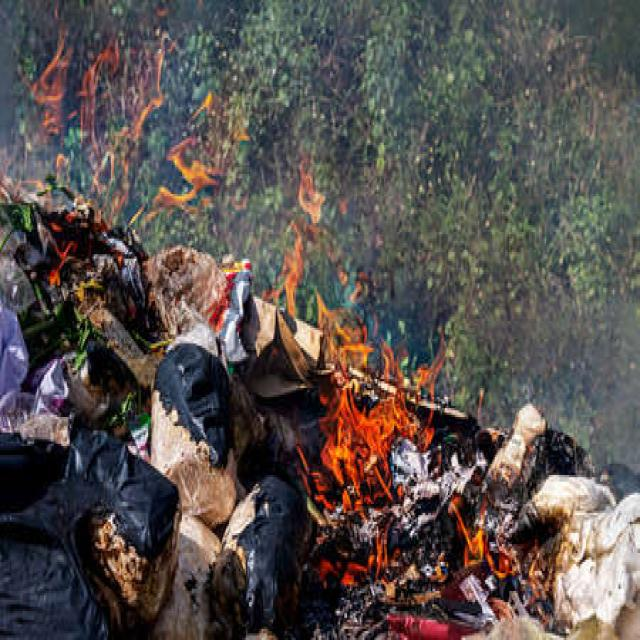fire: (1, 1, 179, 229), (294, 312, 445, 520), (141, 87, 250, 229), (263, 151, 326, 316), (327, 191, 378, 312), (449, 497, 519, 578), (320, 526, 388, 586), (522, 530, 555, 630)
